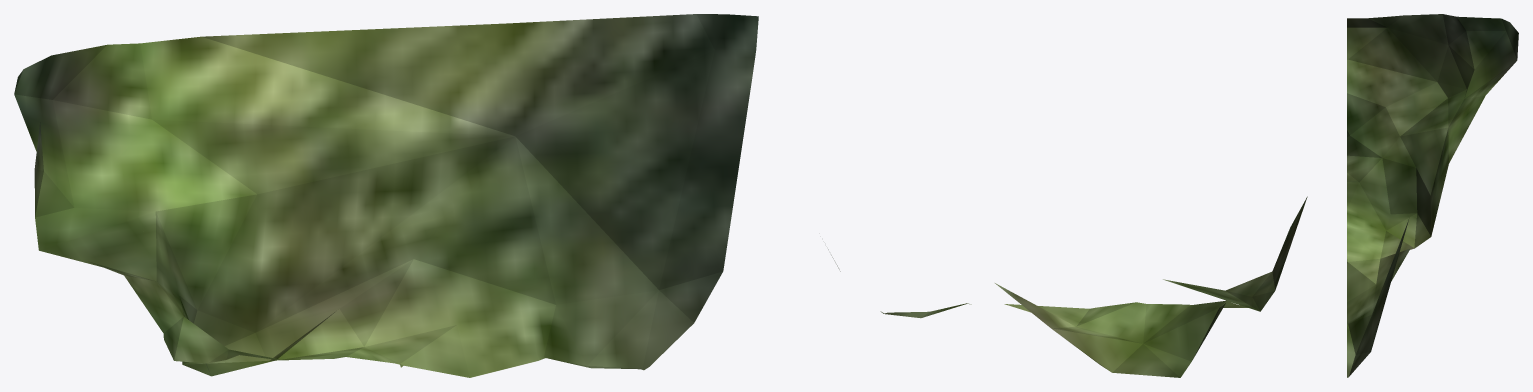
3 renders of one model, left to right at view 1: azimuth 30°, elevation 25°; view 2: azimuth 150°, elevation 25°; view 3: azimuth 270°, elevation 25°, orthographic. The views are drawn at different scales.
Size of the model in its own units: 7.16 by 3.44 by 2.62.
Materials: 1 (1 with a texture image).
